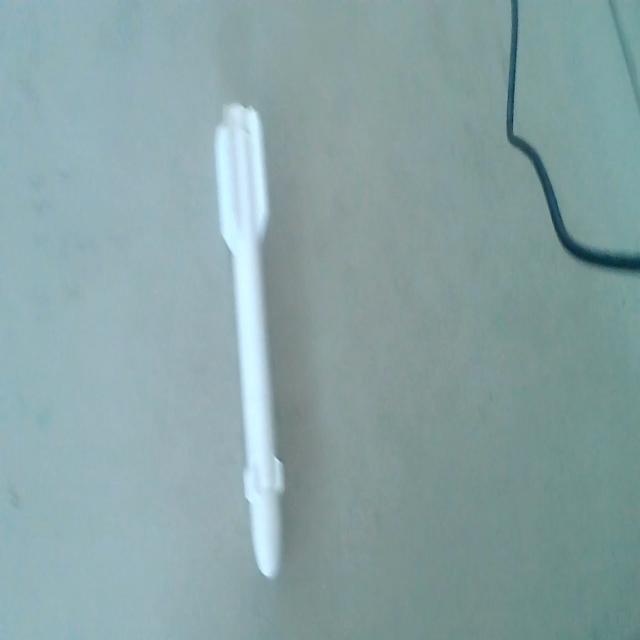Rocket: (214, 101, 290, 587)
